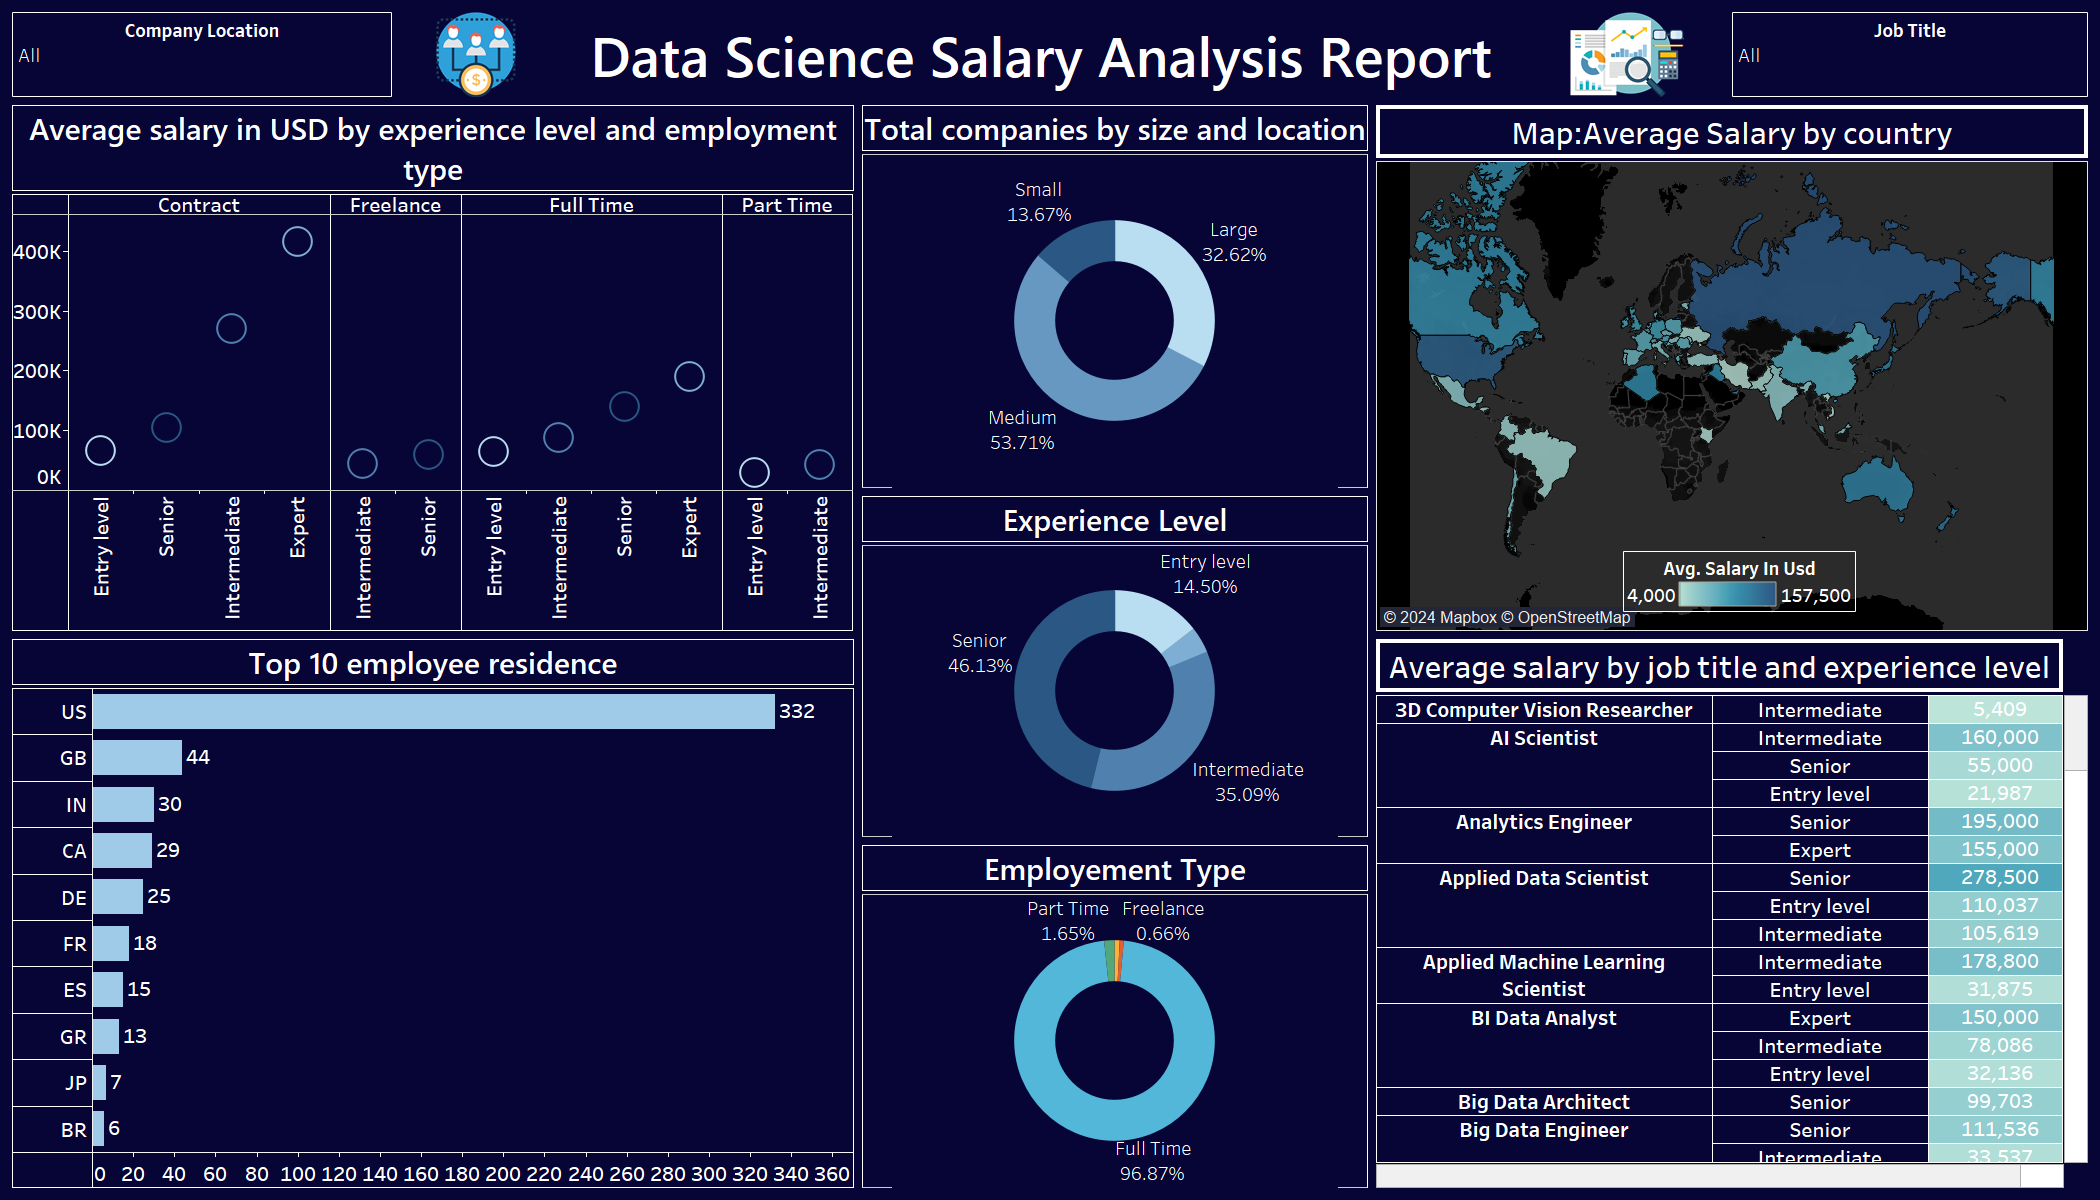

What the dashboard file says about the page in this screenshot:
{"tool":"tableau","page":{"name":"Data Science Salary Analysis Dashboard","canvas":[2100,1200],"ordinal":0},"visuals":[{"type":"filter","title":"Total companies by size and location","param":"[federated.0xeh8nc1hmbx7o11bescc0ksut87].[none:company_location:nk]","box":[8,8,388,93]},{"type":"image","param":"Image/pngegg (1).png","box":[396,8,160,93]},{"type":"text","box":[556,8,970,93]},{"type":"image","param":"Image/pngegg.png","box":[1526,8,202,93]},{"type":"filter","title":"Map:Average Salary by country","param":"[federated.0xeh8nc1hmbx7o11bescc0ksut87].[none:job_title:nk]","box":[1728,8,364,93]},{"type":"worksheet","title":"Average salary in USD by experience level and employment type","mark":"Shape","rows":["salary_in_usd"],"cols":["employment_type","experience_level"],"box":[8,101,850,534.2]},{"type":"worksheet","title":"Total companies by size and location","mark":"Pie","rows":["Calculation_1315895521893621761","Calculation_1315895521893621761"],"box":[858,101,514,390.6]},{"type":"worksheet","title":"Map:Average Salary by country","mark":"Automatic","box":[1372,101,720,534.2]},{"type":"worksheet","title":"Experience Level","mark":"Pie","rows":["Calculation_1315895521893621761","Calculation_1315895521893621761"],"box":[858,491.6,514,349.2]},{"type":"legend","title":"Map:Average Salary by country","param":"[federated.0xeh8nc1hmbx7o11bescc0ksut87].[avg:salary_in_usd:qk]","box":[1639,537,211,69]},{"type":"worksheet","title":"Top 10 employee residence","mark":"Automatic","rows":["employee_residence"],"cols":["employee_residence"],"box":[8,635.2,850,556.8]},{"type":"worksheet","title":"Average salary by job title and experience level","mark":"Square","rows":["job_title","experience_level"],"box":[1372,635.2,720,556.8]},{"type":"worksheet","title":"Employement Type","mark":"Pie","rows":["Calculation_1315895521893621761","Calculation_1315895521893621761"],"box":[858,840.8,514,351.2]}]}

Visuals, with their boxes in screenshot pixels (x1, y1, x2, y2), scaled from the page's 2100x1200 canvas onto the 2100x1200 screenshot:
"Total companies by size and location" filter: (x1=8, y1=8, x2=396, y2=101)
image: (x1=396, y1=8, x2=556, y2=101)
text: (x1=556, y1=8, x2=1526, y2=101)
image: (x1=1526, y1=8, x2=1728, y2=101)
"Map:Average Salary by country" filter: (x1=1728, y1=8, x2=2092, y2=101)
"Average salary in USD by experience level and employment type" worksheet (Shape marks): (x1=8, y1=101, x2=858, y2=635)
"Total companies by size and location" worksheet (Pie marks): (x1=858, y1=101, x2=1372, y2=492)
"Map:Average Salary by country" worksheet: (x1=1372, y1=101, x2=2092, y2=635)
"Experience Level" worksheet (Pie marks): (x1=858, y1=492, x2=1372, y2=841)
"Map:Average Salary by country" legend: (x1=1639, y1=537, x2=1850, y2=606)
"Top 10 employee residence" worksheet: (x1=8, y1=635, x2=858, y2=1192)
"Average salary by job title and experience level" worksheet (Square marks): (x1=1372, y1=635, x2=2092, y2=1192)
"Employement Type" worksheet (Pie marks): (x1=858, y1=841, x2=1372, y2=1192)
